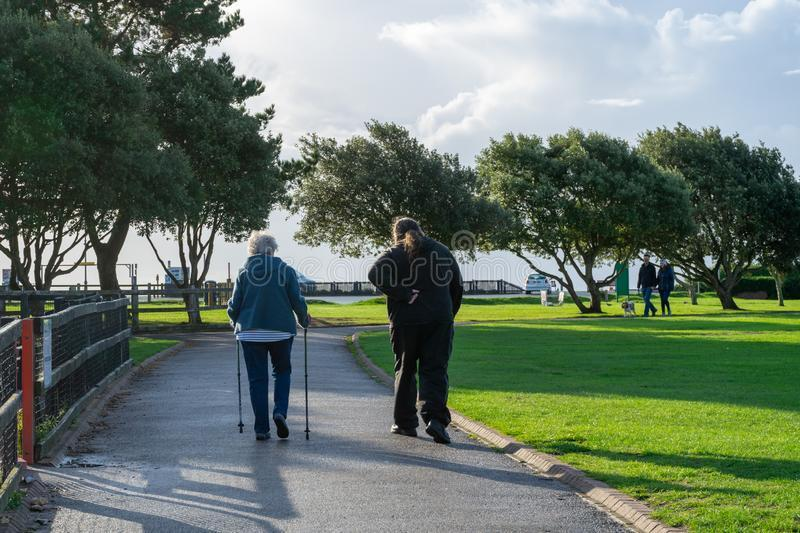crutches: (215, 225, 318, 455)
